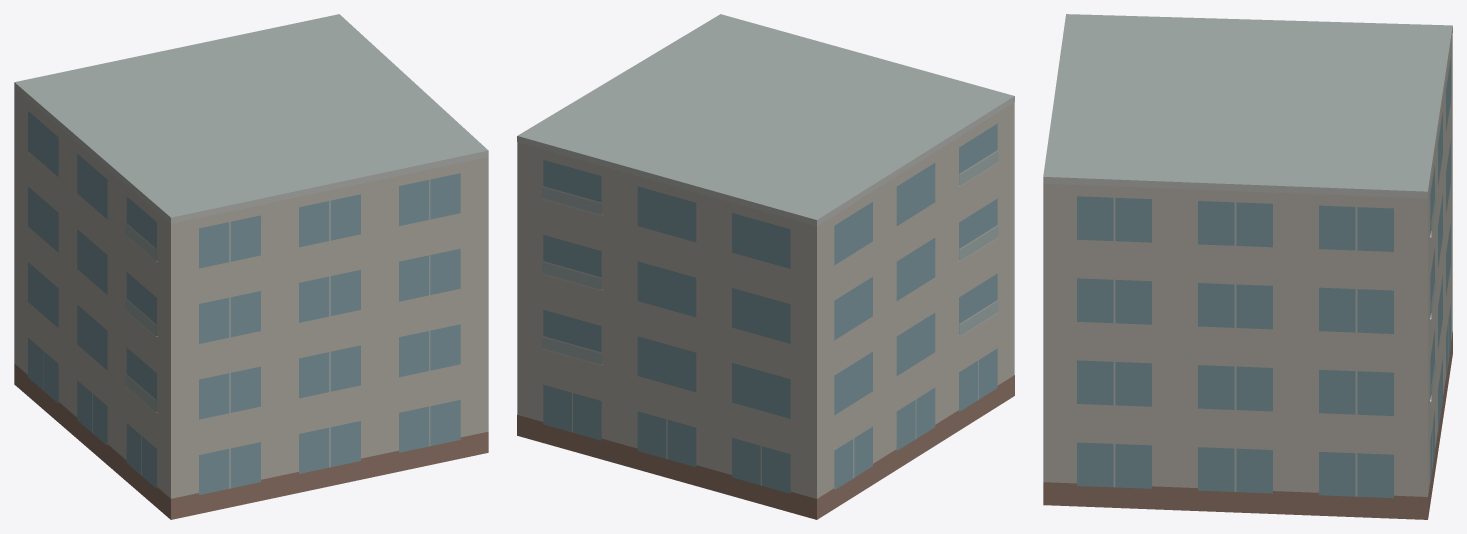
The model's file is survey-upis-33029510.glb.
The picture shows the model from 3 angles, left to right: view 1: azimuth 30°, elevation 25°; view 2: azimuth 150°, elevation 25°; view 3: azimuth 270°, elevation 25°; orthographic projection. The views are drawn at different scales.
Parts seen in each view (by area): view 1: survey-upis-33029510.tmp; view 2: survey-upis-33029510.tmp; view 3: survey-upis-33029510.tmp.
Part boxes in pixels (x1=…): survey-upis-33029510.tmp: x1=14, y1=14, x2=488, y2=519; survey-upis-33029510.tmp: x1=517, y1=14, x2=1014, y2=519; survey-upis-33029510.tmp: x1=1043, y1=14, x2=1452, y2=519.
Bounding box in the file's own units: 13.58 × 11.7 × 13.24.
